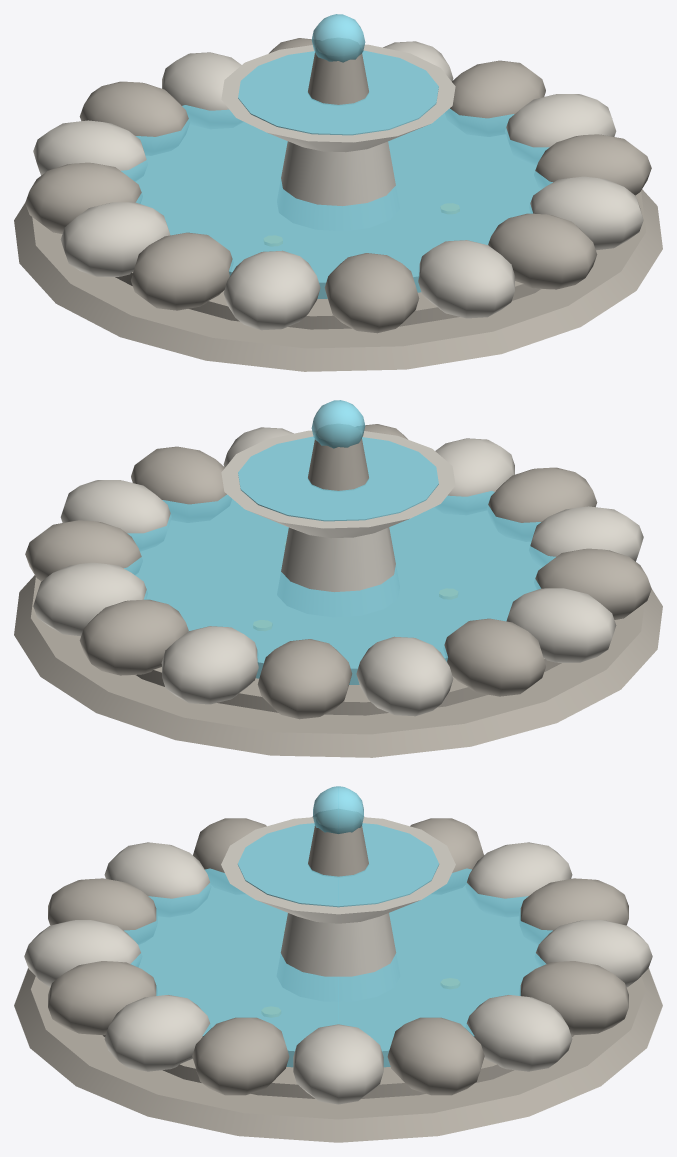
3 renders of one model, top to bottom at view 1: azimuth 30°, elevation 25°; view 2: azimuth 150°, elevation 25°; view 3: azimuth 270°, elevation 25°, orthographic.
Visible parts, largest first — view 1: __optimized_merged_material_0, __optimized_merged_material_1, __optimized_merged_material_2; view 2: __optimized_merged_material_0, __optimized_merged_material_1, __optimized_merged_material_2; view 3: __optimized_merged_material_0, __optimized_merged_material_1, __optimized_merged_material_2.
Part boxes in pixels (x1=…): __optimized_merged_material_0: x1=14, y1=38, x2=662, y2=371; __optimized_merged_material_1: x1=33, y1=41, x2=643, y2=330; __optimized_merged_material_2: x1=121, y1=14, x2=552, y2=298; __optimized_merged_material_0: x1=14, y1=424, x2=662, y2=757; __optimized_merged_material_1: x1=33, y1=427, x2=643, y2=716; __optimized_merged_material_2: x1=124, y1=400, x2=555, y2=684; __optimized_merged_material_0: x1=14, y1=810, x2=662, y2=1142; __optimized_merged_material_1: x1=24, y1=809, x2=652, y2=1104; __optimized_merged_material_2: x1=124, y1=786, x2=552, y2=1067.
Bounding box in the file's own units: 5.8 × 2.14 × 5.8.
